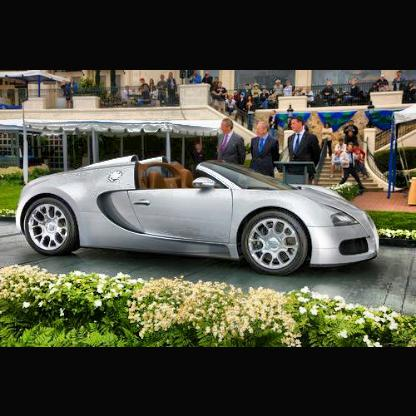Bugatti Veyron 16-4 Convertible 2009: (18, 156, 382, 277)
